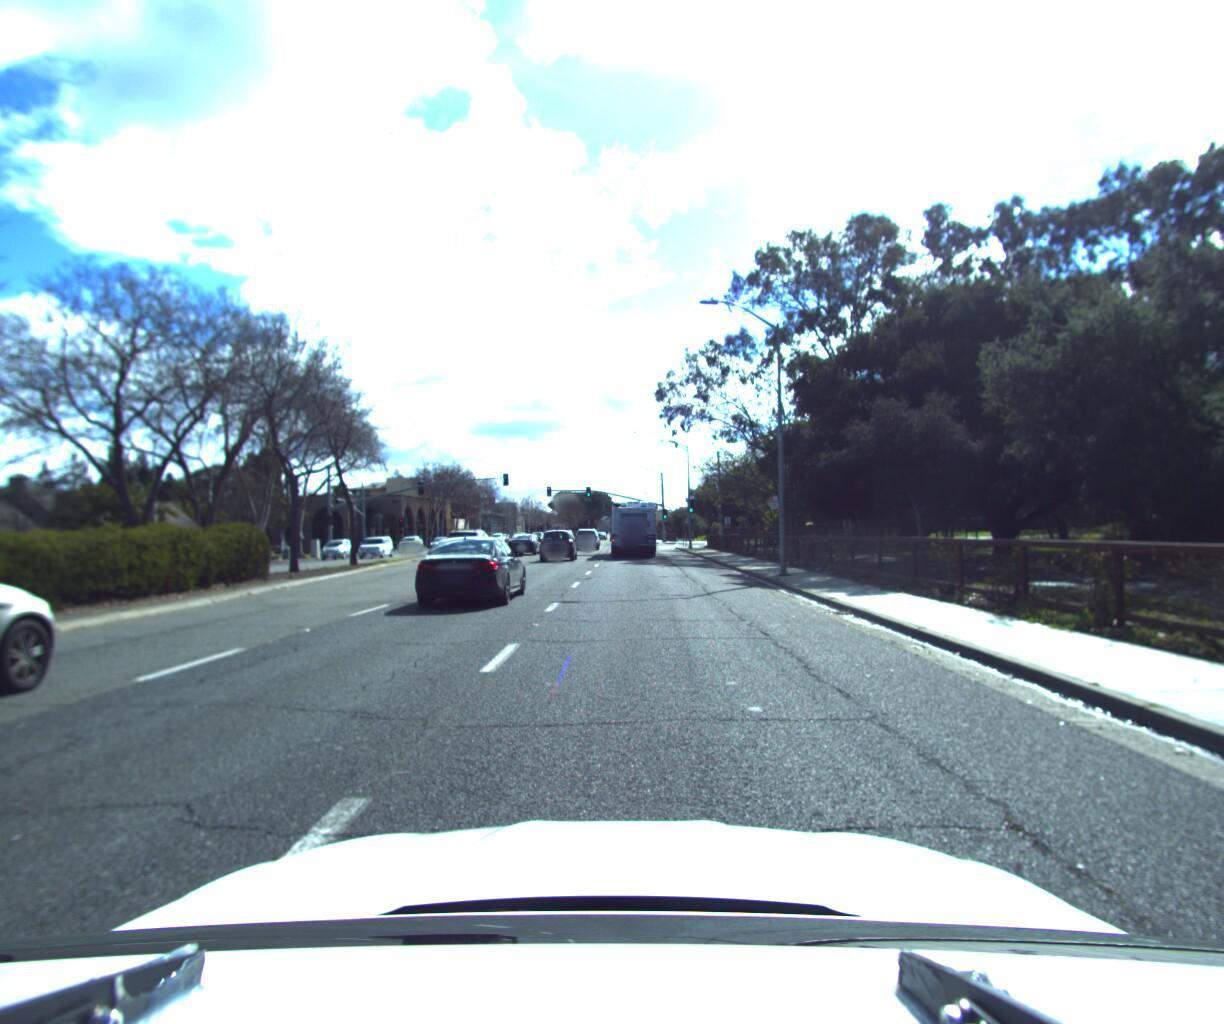bus: (610, 495, 663, 557)
car: (402, 534, 534, 617), (539, 528, 578, 561), (321, 537, 363, 560), (357, 535, 396, 557), (508, 531, 542, 556), (576, 526, 602, 549)
